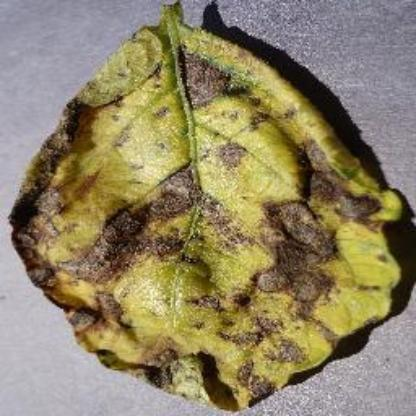Early-Blight: (12, 5, 406, 410)
